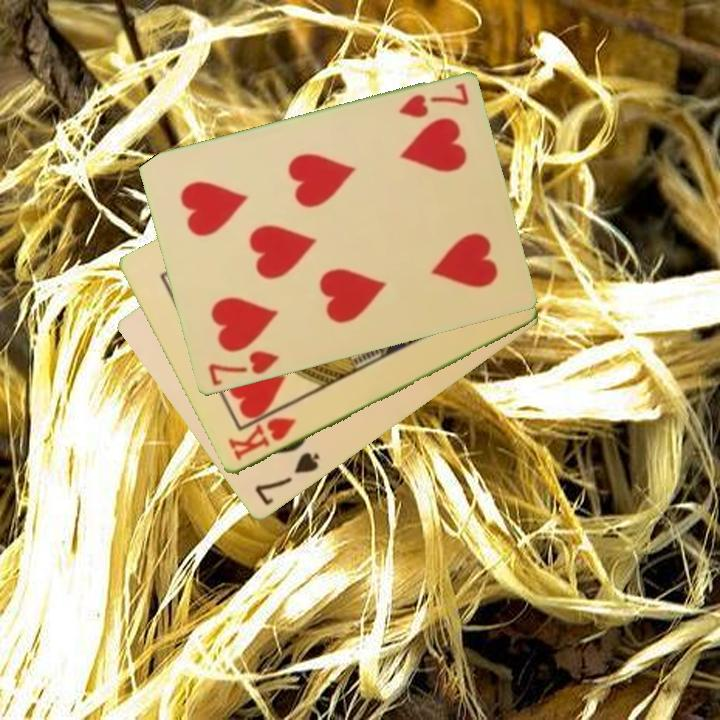7h: (204, 347, 282, 389), (394, 80, 472, 122)
7s: (251, 449, 323, 509)
Kh: (224, 414, 299, 465)
